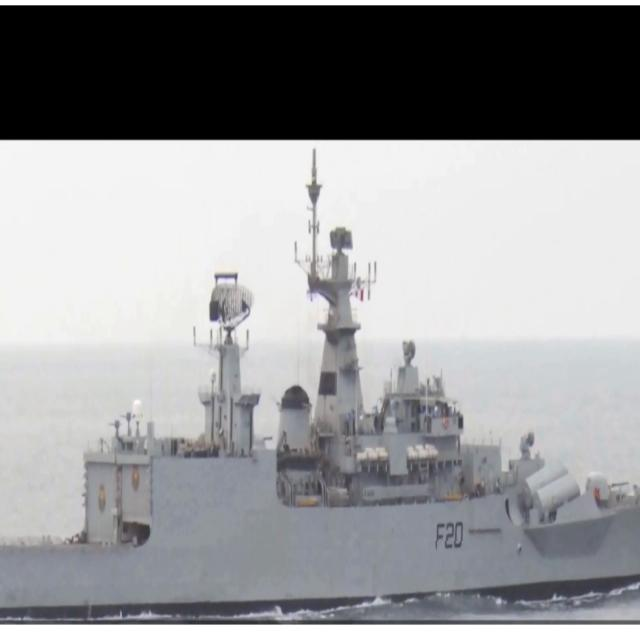OCR: (430, 518, 465, 558)
